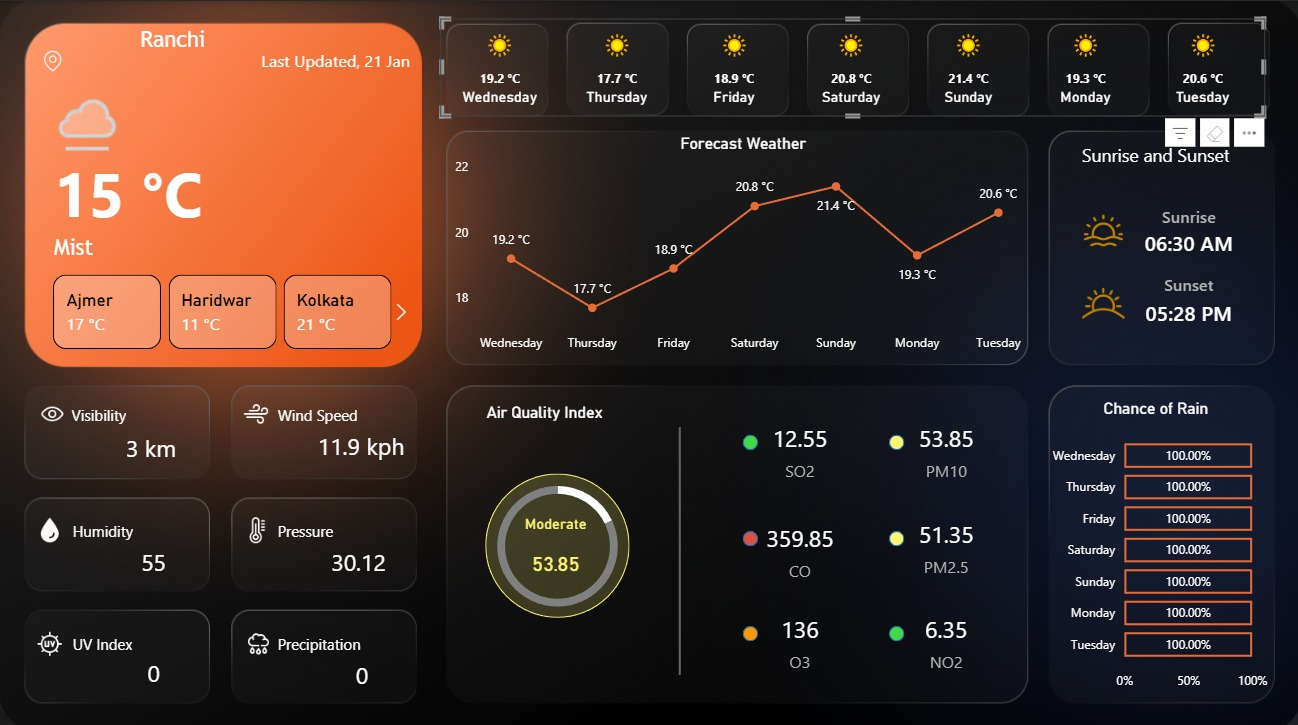

What the dashboard file says about the page in this screenshot:
{"tool":"powerbi","page":{"name":"Page 1","canvas":[1280,720],"ordinal":0},"visuals":[{"type":"shape","box":[477.7,464,141.7,141.7],"z":0},{"type":"advancedSlicerVisual","fields":{"Values":["Locations.location.name"]},"box":[28.8,263.5,382.8,83.7],"z":1000},{"type":"shape","box":[13.7,133.1,226.4,111.1],"z":2000},{"type":"shape","box":[53.5,222.3,334.8,39.8],"z":3000},{"type":"shape","box":[138.7,17.2,135,40.5],"z":4000},{"type":"shape","box":[220.9,41.2,182.5,32.9],"z":5000},{"type":"image","box":[32.9,43.9,38.4,30.2],"z":6000},{"type":"cardVisual","fields":{"Data":["Min(current.current.condition.icon)"]},"box":[28.8,59,115.3,111.1],"z":7000},{"type":"image","box":[30.2,388.3,42.5,35.7],"z":8000},{"type":"shape","box":[71.4,391.1,157.8,30.2],"z":9000},{"type":"shape","box":[72.7,505,157.8,30.2],"z":10000},{"type":"shape","box":[273.1,616.1,157.8,30.2],"z":11000},{"type":"shape","box":[72.7,616.1,152.3,30.2],"z":12000},{"type":"shape","box":[273.1,505,157.8,30.2],"z":13000},{"type":"shape","box":[273.1,391.1,157.8,30.2],"z":14000},{"type":"image","box":[28.8,613.4,42.5,35.7],"z":15000},{"type":"image","box":[28.8,502.2,42.5,35.7],"z":16000},{"type":"image","box":[230.5,388.3,42.5,35.7],"z":17000},{"type":"image","box":[231.9,502.2,42.5,35.7],"z":18000},{"type":"image","box":[233.3,613.4,42.5,35.7],"z":19000},{"type":"card","fields":{"Values":["_Measures.Visibility"]},"box":[93.3,408.9,112.5,64.5],"z":20000},{"type":"card","fields":{"Values":["_Measures.wind_speed"]},"box":[299.1,406.2,112.5,64.5],"z":21000},{"type":"card","fields":{"Values":["Sum(current.current.humidity)"]},"box":[96.1,520.1,112.5,64.5],"z":22000},{"type":"card","fields":{"Values":["Sum(current.current.uv)"]},"box":[96.1,629.8,112.5,64.5],"z":23000},{"type":"card","fields":{"Values":["Sum(current.current.pressure_in)"]},"box":[296.4,520.1,112.5,64.5],"z":24000},{"type":"advancedSlicerVisual","fields":{"Values":["Forcast_day.Day_name"]},"box":[432.9,17.1,810.3,96.8],"z":25000},{"type":"lineChart","title":"Forecast Weather ","fields":{"Y":["Sum(Forcast_day.forecast.forecastday.day.avgtemp_c)"],"Category":["Forcast_day.Day_name"]},"box":[442.5,131.3,575.2,222.7],"z":26000},{"type":"shape","box":[1042.9,131.7,185.2,38.4],"z":27000},{"type":"shape","box":[1054.8,181.3,225.5,111.3],"z":28000},{"type":"shape","box":[1054.8,249.8,225.5,111.3],"z":29000},{"type":"shape","box":[1054.8,222.7,225.5,111.3],"z":30000},{"type":"shape","box":[1054.8,155.6,225.5,111.3],"z":31000},{"type":"image","box":[1020.5,201.2,127,48.5],"z":32000},{"type":"image","box":[1000.5,264.1,168.4,65.7],"z":33000},{"type":"hundredPercentStackedBarChart","title":"Chance of Rain","fields":{"Y":["Sum(Forcast_day.forecast.forecastday.day.daily_chance_of_rain)","current.Left_value_rain"],"Category":["Forcast_day.Day_name"]},"box":[1020.9,391.4,229.4,294.5],"z":34000},{"type":"shape","box":[442.9,384.1,185.3,38],"z":35000},{"type":"card","fields":{"Values":["Sum(current.current.precip_mm)"]},"box":[300.6,630.7,111.7,65],"z":36000},{"type":"card","fields":{"Values":["Sum(current.current.air_quality.pm10)"]},"box":[873.6,408.6,112.9,65],"z":37000},{"type":"card","fields":{"Values":["Sum(current.current.air_quality.pm2_5)"]},"box":[874,502.8,112.9,65.2],"z":38000},{"type":"card","fields":{"Values":["Sum(current.current.air_quality.so2)"]},"box":[729.8,408.8,112.9,65.2],"z":39000},{"type":"card","fields":{"Values":["Sum(current.current.air_quality.co)"]},"box":[729.8,506.6,112.9,65.2],"z":40000},{"type":"card","fields":{"Values":["Sum(current.current.air_quality.o3)"]},"box":[729.8,596.9,112.9,65.2],"z":41000},{"type":"card","fields":{"Values":["Sum(current.current.air_quality.no2)"]},"box":[874,596.9,112.9,65.2],"z":42000},{"type":"shape","box":[729.8,426.3,15,15],"z":43000},{"type":"shape","box":[729.8,520.4,15,15],"z":44000},{"type":"shape","box":[729.8,613.2,15,15],"z":45000},{"type":"shape","box":[874,613.2,15,15],"z":46000},{"type":"shape","box":[874,520.4,15,15],"z":47000},{"type":"shape","box":[874,426.3,15,15],"z":48000},{"type":"shape","box":[575.6,418.8,185.6,243.3],"z":49000},{"type":"donutChart","fields":{"Y":["Sum(current.current.air_quality.pm10)","_Measures.Left_value_PM10"]},"box":[435.1,456.4,225.7,158],"z":50000},{"type":"card","fields":{"Values":["Sum(current.current.air_quality.pm10)"]},"box":[491.5,504.1,109.1,80.3],"z":51000}]}

Visuals, with their boxes in screenshot pixels (x1, y1, x2, y2), scaled from the page's 1280x720 canvas onto the 1298x725 screenshot:
shape: pyautogui.locateOnScreen(484, 467, 628, 610)
advancedSlicerVisual - Locations.location.name: pyautogui.locateOnScreen(29, 265, 417, 350)
shape: pyautogui.locateOnScreen(14, 134, 243, 246)
shape: pyautogui.locateOnScreen(54, 224, 394, 264)
shape: pyautogui.locateOnScreen(141, 17, 278, 58)
shape: pyautogui.locateOnScreen(224, 41, 409, 75)
image: pyautogui.locateOnScreen(33, 44, 72, 75)
cardVisual - Min(current.current.condition.icon): pyautogui.locateOnScreen(29, 59, 146, 171)
image: pyautogui.locateOnScreen(31, 391, 74, 427)
shape: pyautogui.locateOnScreen(72, 394, 232, 424)
shape: pyautogui.locateOnScreen(74, 509, 234, 539)
shape: pyautogui.locateOnScreen(277, 620, 437, 651)
shape: pyautogui.locateOnScreen(74, 620, 228, 651)
shape: pyautogui.locateOnScreen(277, 509, 437, 539)
shape: pyautogui.locateOnScreen(277, 394, 437, 424)
image: pyautogui.locateOnScreen(29, 618, 72, 654)
image: pyautogui.locateOnScreen(29, 506, 72, 542)
image: pyautogui.locateOnScreen(234, 391, 277, 427)
image: pyautogui.locateOnScreen(235, 506, 278, 542)
image: pyautogui.locateOnScreen(237, 618, 280, 654)
card - _Measures.Visibility: pyautogui.locateOnScreen(95, 412, 209, 477)
card - _Measures.wind_speed: pyautogui.locateOnScreen(303, 409, 417, 474)
card - Sum(current.current.humidity): pyautogui.locateOnScreen(97, 524, 212, 589)
card - Sum(current.current.uv): pyautogui.locateOnScreen(97, 634, 212, 699)
card - Sum(current.current.pressure_in): pyautogui.locateOnScreen(301, 524, 415, 589)
advancedSlicerVisual - Forcast_day.Day_name: pyautogui.locateOnScreen(439, 17, 1261, 115)
"Forecast Weather " lineChart: pyautogui.locateOnScreen(449, 132, 1032, 356)
shape: pyautogui.locateOnScreen(1058, 133, 1245, 171)
shape: pyautogui.locateOnScreen(1070, 183, 1297, 295)
shape: pyautogui.locateOnScreen(1070, 252, 1297, 364)
shape: pyautogui.locateOnScreen(1070, 224, 1297, 336)
shape: pyautogui.locateOnScreen(1070, 157, 1297, 269)
image: pyautogui.locateOnScreen(1035, 203, 1164, 251)
image: pyautogui.locateOnScreen(1015, 266, 1185, 332)
"Chance of Rain" hundredPercentStackedBarChart: pyautogui.locateOnScreen(1035, 394, 1268, 691)
shape: pyautogui.locateOnScreen(449, 387, 637, 425)
card - Sum(current.current.precip_mm): pyautogui.locateOnScreen(305, 635, 418, 701)
card - Sum(current.current.air_quality.pm10): pyautogui.locateOnScreen(886, 411, 1000, 477)
card - Sum(current.current.air_quality.pm2_5): pyautogui.locateOnScreen(886, 506, 1001, 572)
card - Sum(current.current.air_quality.so2): pyautogui.locateOnScreen(740, 412, 855, 477)
card - Sum(current.current.air_quality.co): pyautogui.locateOnScreen(740, 510, 855, 576)
card - Sum(current.current.air_quality.o3): pyautogui.locateOnScreen(740, 601, 855, 667)
card - Sum(current.current.air_quality.no2): pyautogui.locateOnScreen(886, 601, 1001, 667)
shape: pyautogui.locateOnScreen(740, 429, 755, 444)
shape: pyautogui.locateOnScreen(740, 524, 755, 539)
shape: pyautogui.locateOnScreen(740, 617, 755, 633)
shape: pyautogui.locateOnScreen(886, 617, 902, 633)
shape: pyautogui.locateOnScreen(886, 524, 902, 539)
shape: pyautogui.locateOnScreen(886, 429, 902, 444)
shape: pyautogui.locateOnScreen(584, 422, 772, 667)
donutChart - Sum(current.current.air_quality.pm10) x _Measures.Left_value_PM10: pyautogui.locateOnScreen(441, 460, 670, 619)
card - Sum(current.current.air_quality.pm10): pyautogui.locateOnScreen(498, 508, 609, 588)
